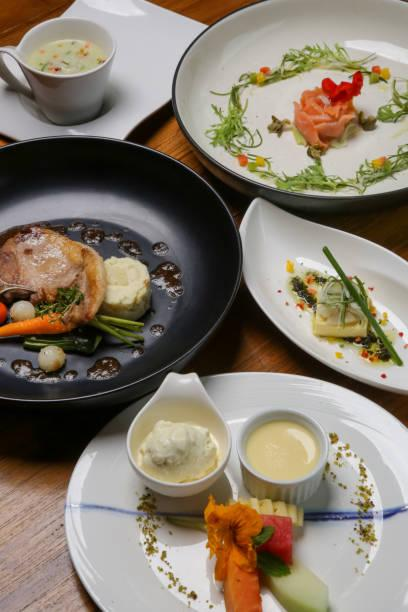Braised Crucian Carp: (66, 372, 407, 607), (0, 129, 243, 420), (170, 0, 408, 211)
